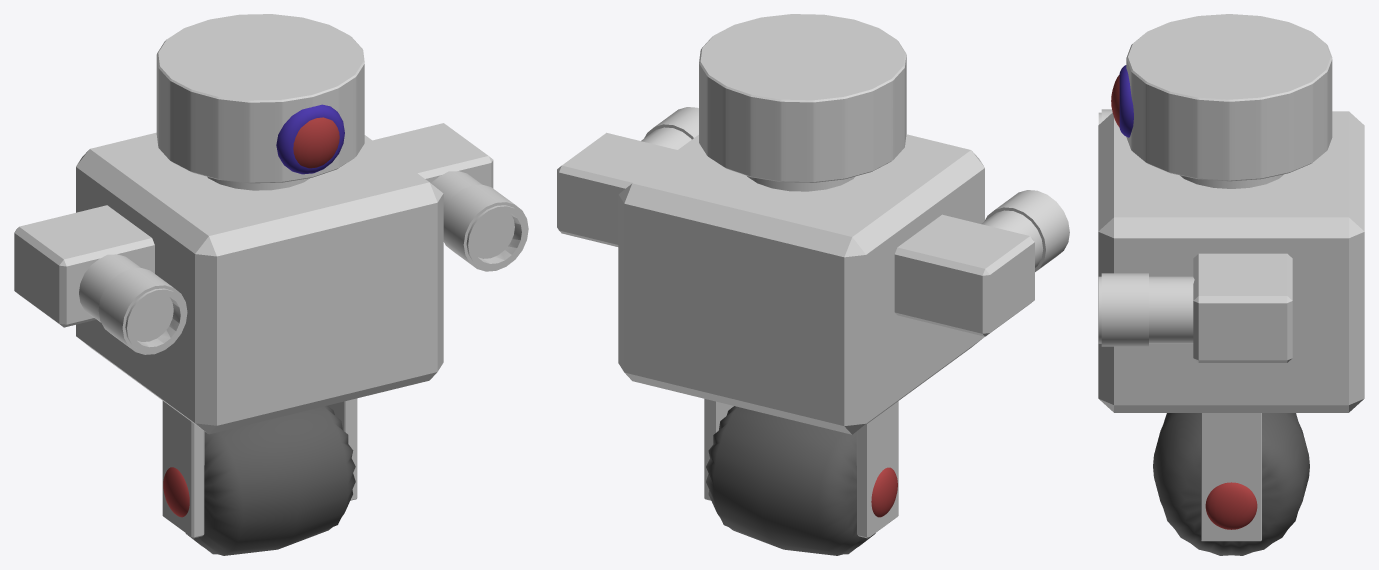
The model's file is Robot.fbx.
3 renders of one model, left to right at view 1: azimuth 30°, elevation 25°; view 2: azimuth 150°, elevation 25°; view 3: azimuth 270°, elevation 25°, orthographic.
Parts seen in each view (by area): view 1: pTorus2; view 2: pTorus2; view 3: pTorus2.
Boxes of the visible parts, x1,y1,x2,y2 form: pTorus2: [14, 14, 528, 555]; pTorus2: [557, 14, 1069, 555]; pTorus2: [1098, 14, 1364, 555].
Bounding box in the file's own units: 6.22 × 6.67 × 3.35.
